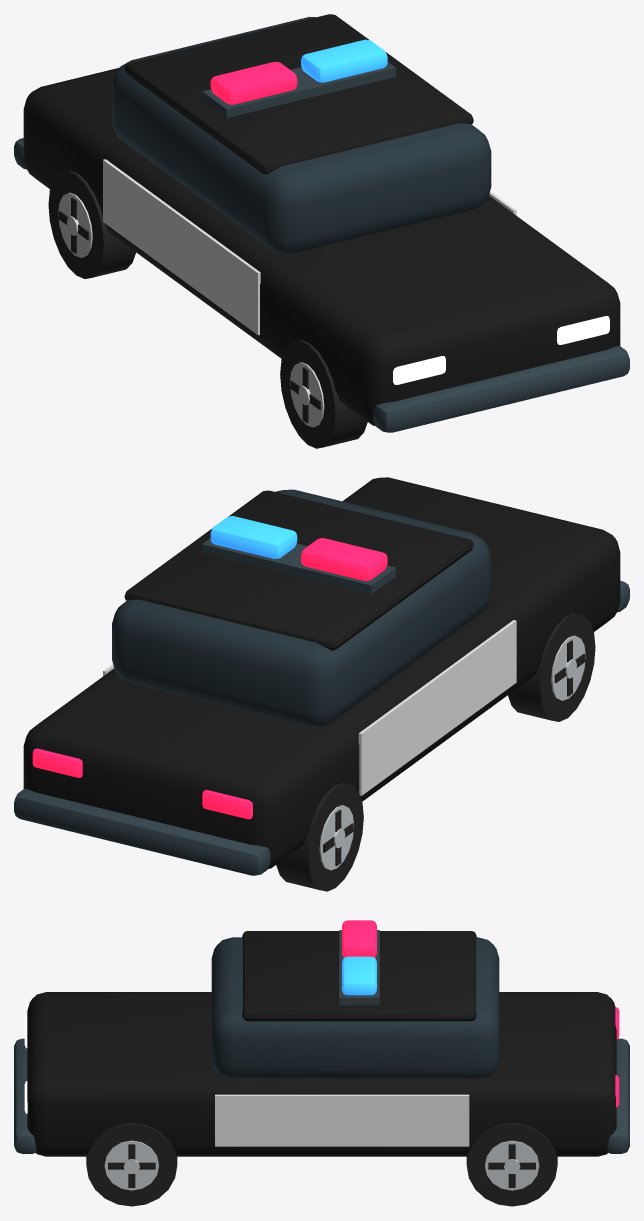
Rendered from cop_car.glb.
3 views of the same model, one above another, from view 1: azimuth 30°, elevation 25°; view 2: azimuth 150°, elevation 25°; view 3: azimuth 270°, elevation 25° (orthographic). The views are drawn at different scales.
Visible parts, largest first — view 1: CopCar_body, Wheel_FR.002, Wheel_RR.002; view 2: CopCar_body, Wheel_FR.002, Wheel_RR.002; view 3: CopCar_body, Wheel_FL.002, Wheel_RL.002.
Part boxes in pixels (x1,y1,x2,y2): CopCar_body: (14,14,629,432); Wheel_FR.002: (280,340,367,448); Wheel_RR.002: (48,170,135,278); CopCar_body: (14,477,629,875); Wheel_FR.002: (508,613,595,721); Wheel_RR.002: (276,783,363,891); CopCar_body: (14,920,629,1156); Wheel_FL.002: (86,1123,177,1206); Wheel_RL.002: (466,1123,557,1206).
Bounding box in the file's own units: 1.9 × 1.68 × 4.6.
